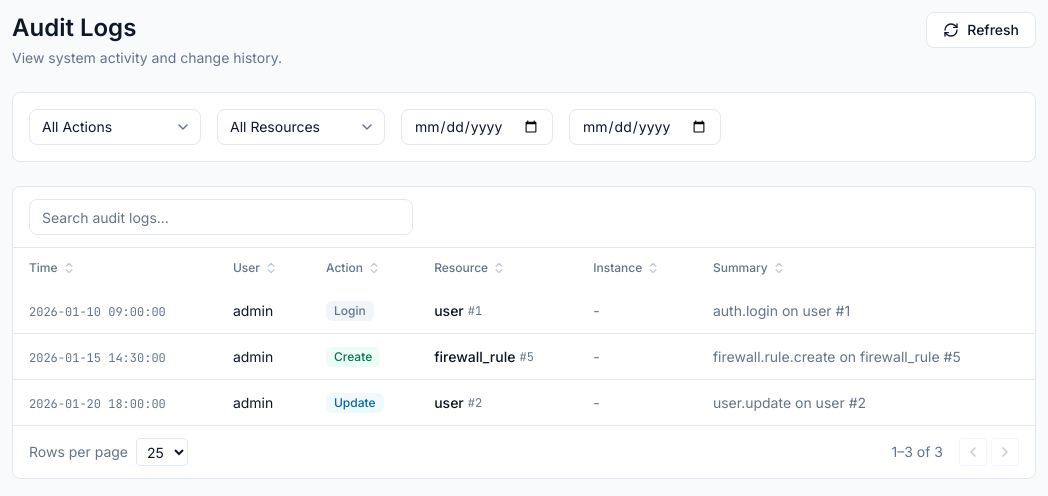
it: AuditLogs › date filter narrows rows (server-side)
Check: the text "auth.login on user #1" is shown, box [713,302,850,318]
Check: the text "firewall.rule.create on firewall_rule #5" is shown, box [713,348,961,364]
In the date field named "Date from": (477, 127) [401,109,553,145], type "2026-01-12"
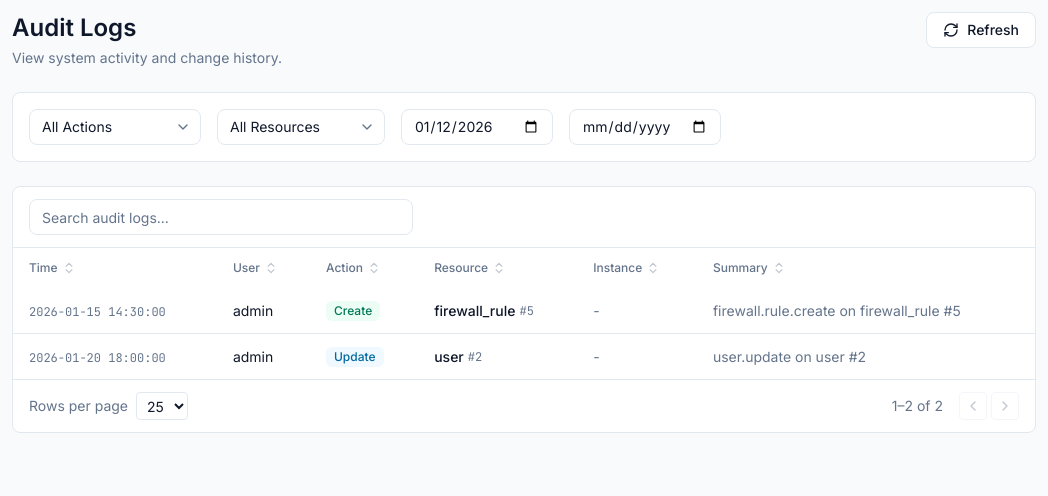
Check: the text "firewall.rule.create on firewall_rule #5" is shown, box [713,302,961,318]
Check: the text "auth.login on user #1" is gone
